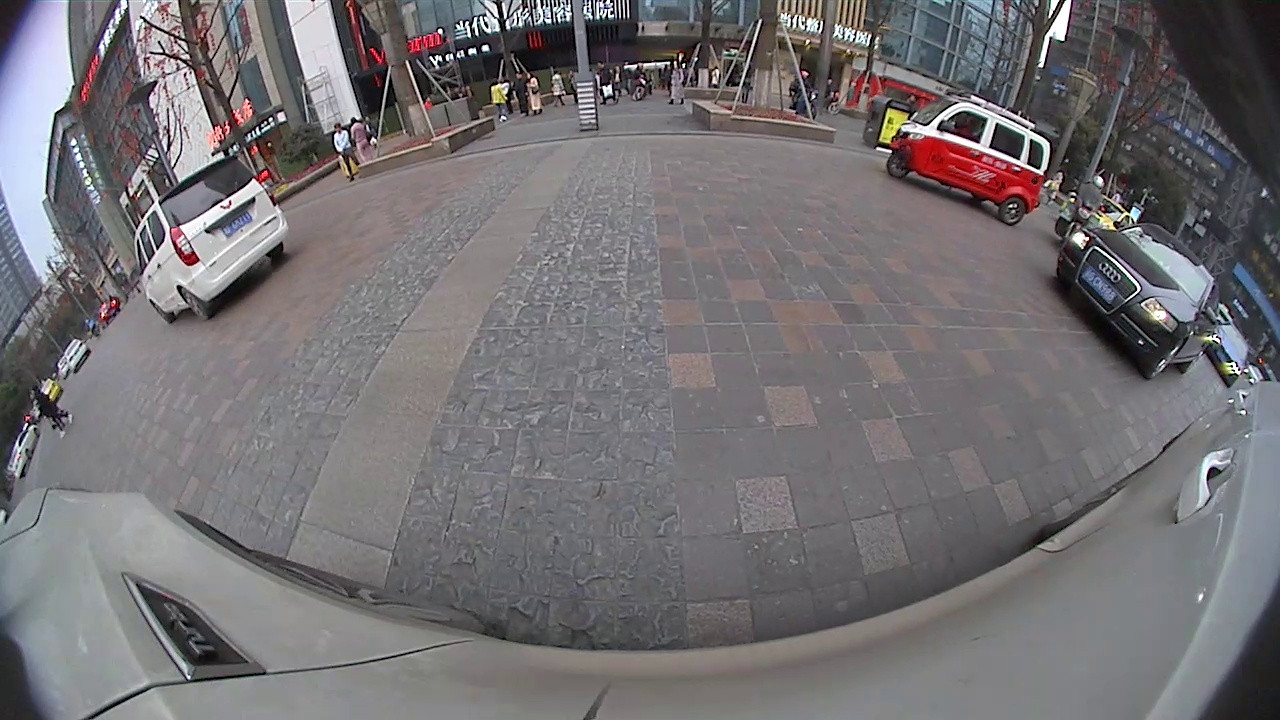car: (132, 153, 290, 325), (1052, 222, 1220, 382), (62, 337, 92, 375)
front: (883, 149, 914, 181)
person: (332, 123, 350, 181), (32, 384, 45, 439)
rear: (175, 284, 212, 324), (995, 194, 1029, 230)
rider: (884, 90, 1052, 227), (1054, 175, 1109, 247)
